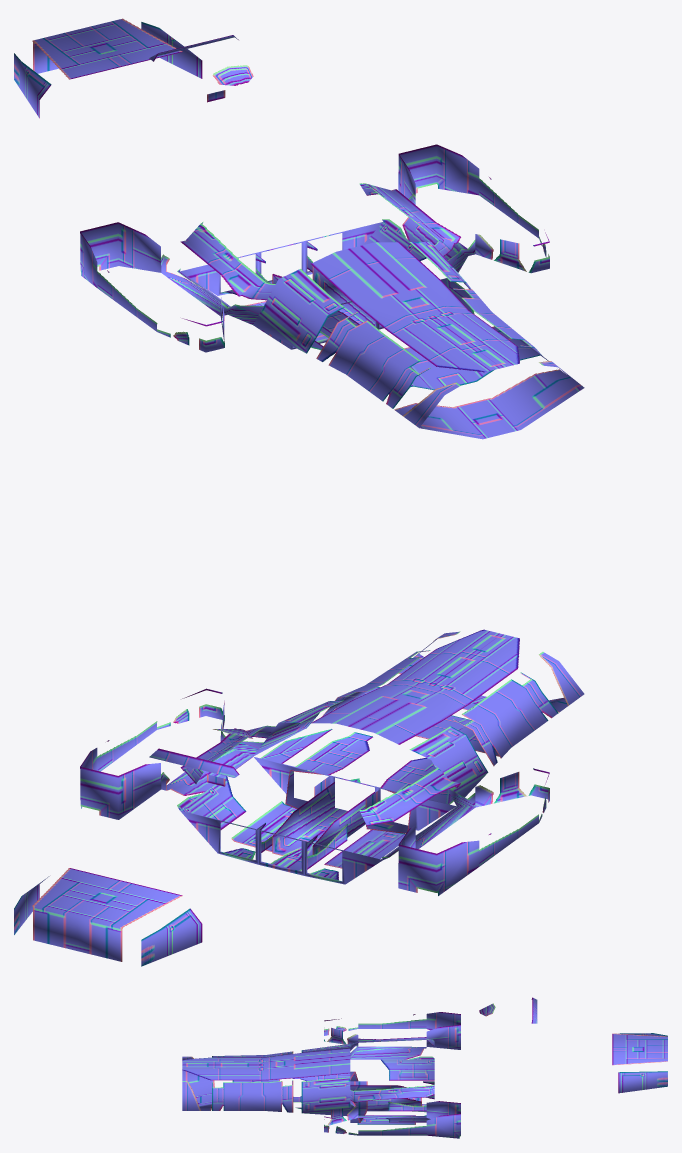
Rendered from EMS-20 Marion.fbx.
3 renders of one model, top to bottom at view 1: azimuth 30°, elevation 25°; view 2: azimuth 150°, elevation 25°; view 3: azimuth 270°, elevation 25°, orthographic. The views are drawn at different scales.
Visible parts, largest first — view 1: EMS-110 Marion Explorer Ship, EMS-110 Marion Left Engine, EMS-110 Marion Right Engine, EMS-110 Marion (Command Center); view 2: EMS-110 Marion Explorer Ship, EMS-110 Marion Right Engine, EMS-110 Marion Left Engine, EMS-110 Marion (Command Center); view 3: EMS-110 Marion Explorer Ship, EMS-110 Marion Left Engine, EMS-110 Marion Right Engine, EMS-110 Marion (Command Center).
Part boxes in pixels (box(x1,y1,x2,y2)): EMS-110 Marion Explorer Ship: box(14, 18, 584, 439); EMS-110 Marion Left Engine: box(398, 144, 549, 273); EMS-110 Marion Right Engine: box(80, 222, 224, 352); EMS-110 Marion (Command Center): box(149, 35, 253, 102); EMS-110 Marion Explorer Ship: box(14, 629, 584, 966); EMS-110 Marion Right Engine: box(398, 768, 549, 895); EMS-110 Marion Left Engine: box(80, 688, 224, 819); EMS-110 Marion (Command Center): box(149, 729, 252, 786); EMS-110 Marion Explorer Ship: box(182, 1033, 667, 1124); EMS-110 Marion Left Engine: box(324, 1101, 460, 1138); EMS-110 Marion Right Engine: box(324, 1012, 460, 1049); EMS-110 Marion (Command Center): box(479, 997, 537, 1023).
Bounding box in the file's own units: 4503 × 2046 × 11662.
